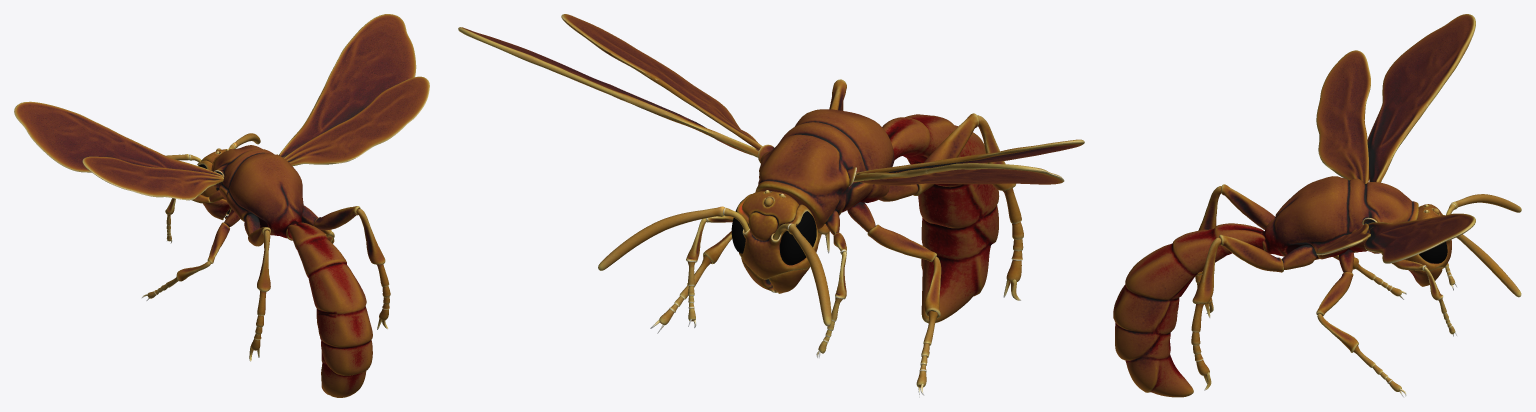
Rendered from insect.glb.
3 views of the same model, side by side, from view 1: azimuth 30°, elevation 25°; view 2: azimuth 150°, elevation 25°; view 3: azimuth 270°, elevation 25° (orthographic). The views are drawn at different scales.
Parts seen in each view (by area): view 1: Object_9, Object_5, Object_6, Object_4, Object_7, Object_10, Object_8, Object_3; view 2: Object_9, Object_5, Object_6, Object_10, Object_4, Object_7, Object_8, Object_3, Object_2; view 3: Object_9, Object_5, Object_6, Object_10, Object_7, Object_8, Object_4, Object_2, Object_3.
Part boxes in pixels (x1=…): Object_9: x1=211, y1=145, x2=372, y2=397; Object_5: x1=82, y1=14, x2=416, y2=200; Object_6: x1=14, y1=101, x2=225, y2=235; Object_4: x1=203, y1=76, x2=429, y2=220; Object_7: x1=201, y1=149, x2=389, y2=340; Object_10: x1=154, y1=210, x2=390, y2=361; Object_8: x1=166, y1=133, x2=385, y2=357; Object_3: x1=147, y1=148, x2=388, y2=357; Object_9: x1=755, y1=109, x2=999, y2=323; Object_5: x1=458, y1=27, x2=1084, y2=265; Object_6: x1=688, y1=163, x2=1064, y2=350; Object_10: x1=669, y1=113, x2=1021, y2=372; Object_4: x1=561, y1=14, x2=810, y2=293; Object_7: x1=742, y1=79, x2=1023, y2=260; Object_8: x1=598, y1=102, x2=1010, y2=326; Object_3: x1=650, y1=190, x2=1018, y2=387; Object_2: x1=657, y1=144, x2=1021, y2=397; Object_9: x1=1113, y1=176, x2=1418, y2=397; Object_5: x1=1316, y1=50, x2=1475, y2=263; Object_6: x1=1367, y1=14, x2=1475, y2=327; Object_10: x1=1191, y1=184, x2=1450, y2=383; Object_7: x1=1191, y1=186, x2=1441, y2=383; Object_8: x1=1192, y1=194, x2=1521, y2=303; Object_4: x1=1316, y1=223, x2=1442, y2=286; Object_2: x1=1196, y1=217, x2=1457, y2=397; Object_3: x1=1204, y1=204, x2=1444, y2=396.
Size of the model in its own units: 4.41 by 2.61 by 3.49.
1 material, 1 textured.
